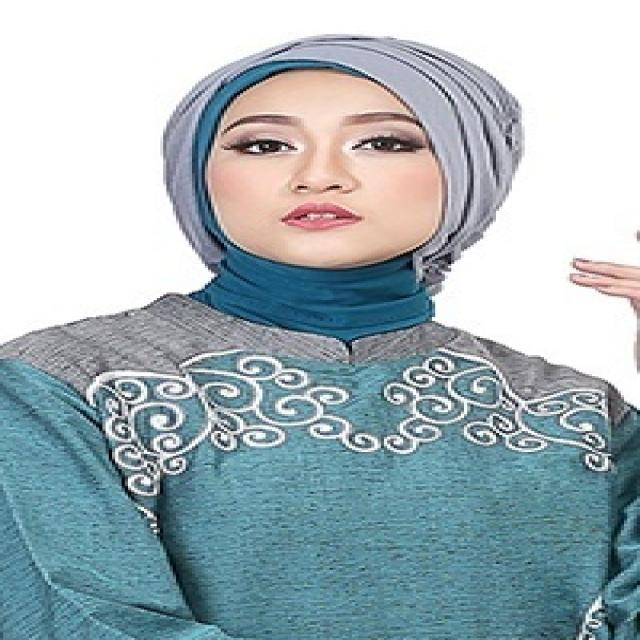head: (157, 30, 516, 288)
